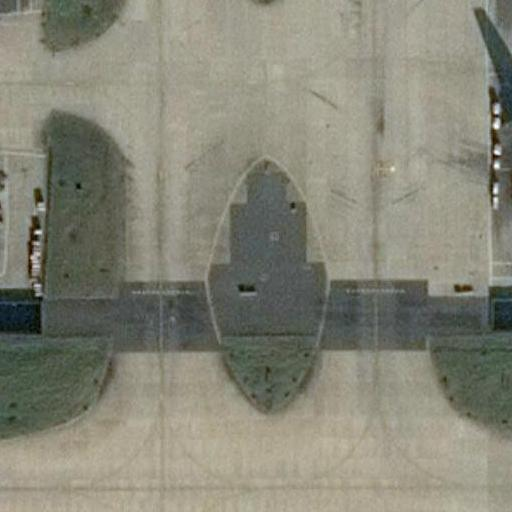Aircraft: (0, 0, 17, 11), (511, 80, 512, 260)
